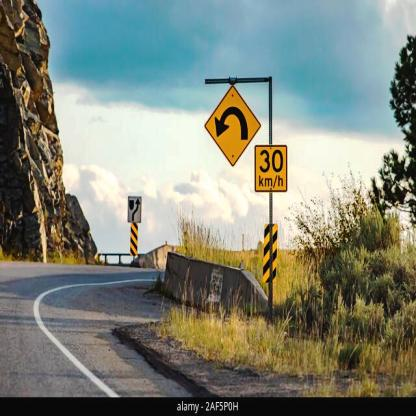U-turn: (205, 86, 261, 162)
